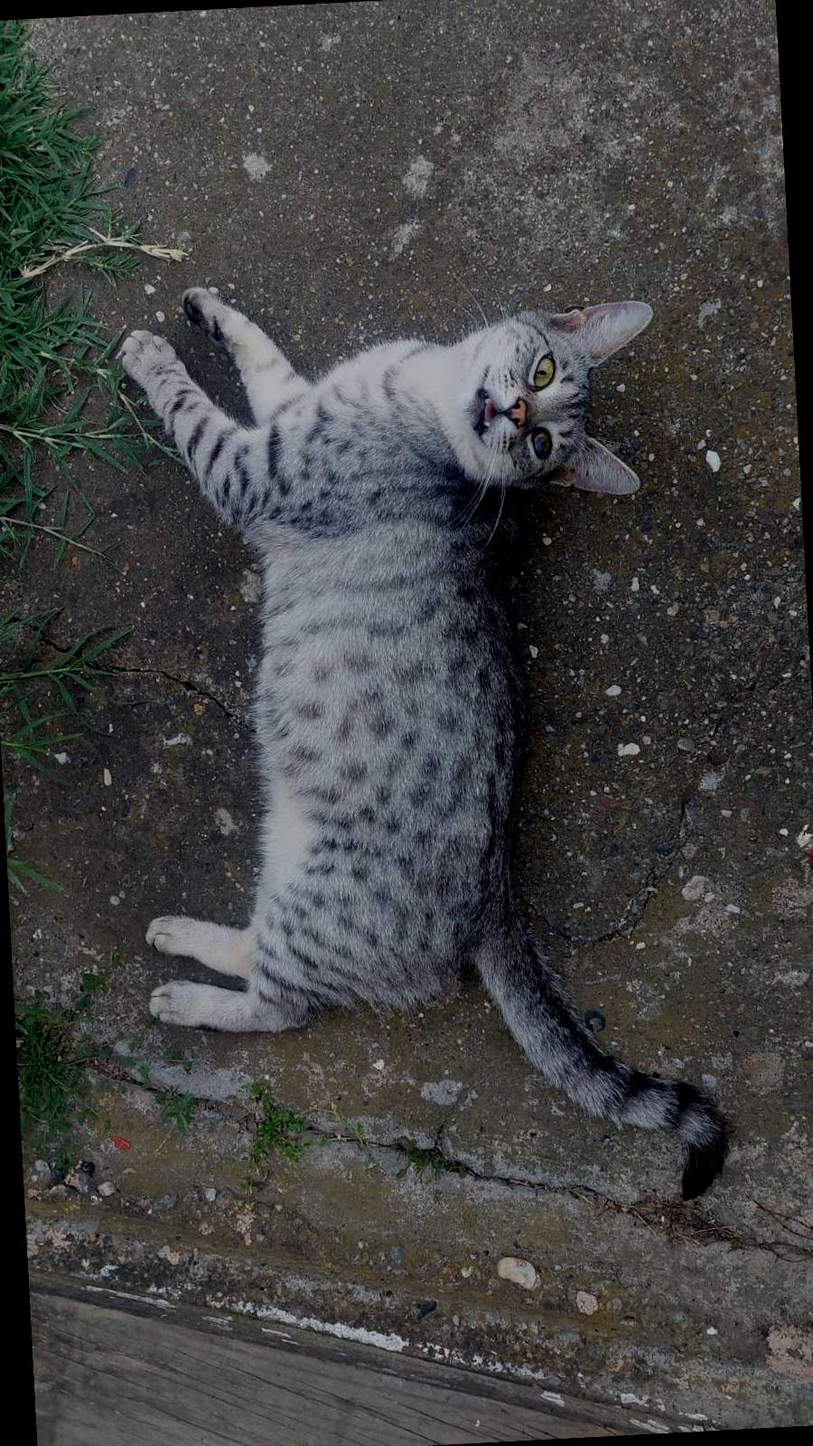macka: (112, 256, 740, 1234)
